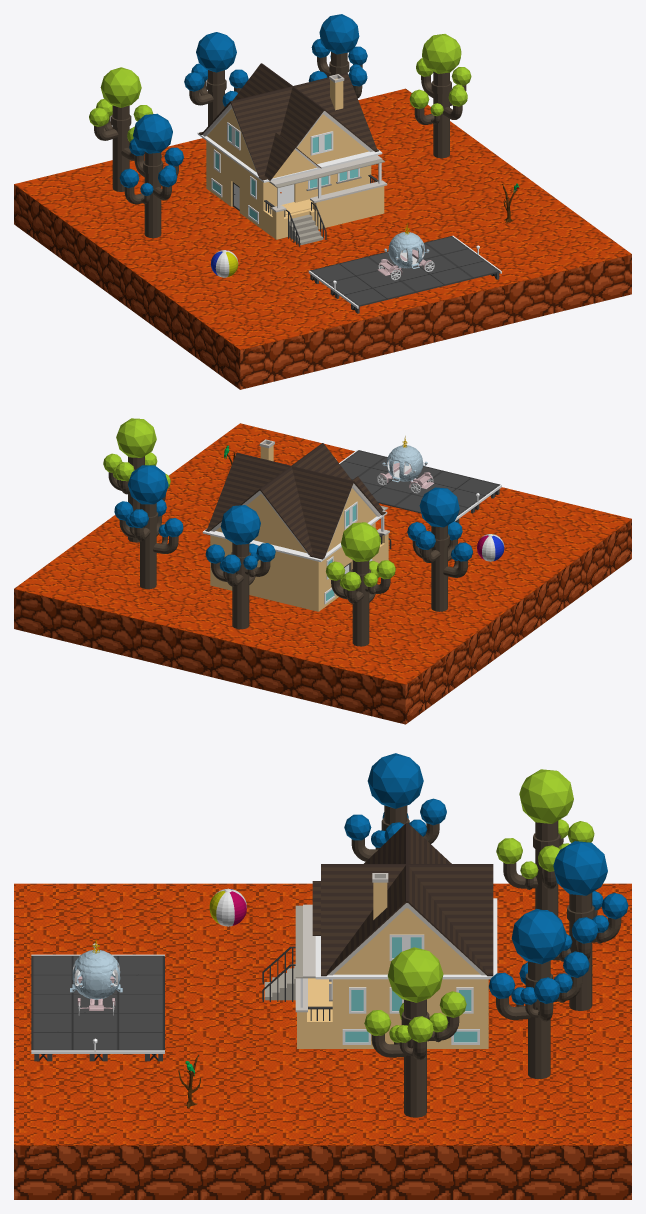
3 renders of one model, top to bottom at view 1: azimuth 30°, elevation 25°; view 2: azimuth 150°, elevation 25°; view 3: azimuth 270°, elevation 25°, orthographic. The views are drawn at different scales.
Parts seen in each view (by area): view 1: Cube.001, Cube.235, VEHICLES_FANTASY_CARRIAGE, OBJRANDOM_BEACHBALL; view 2: Cube.001, Cube.235, VEHICLES_FANTASY_CARRIAGE, OBJRANDOM_BEACHBALL; view 3: Cube.001, Cube.235, VEHICLES_FANTASY_CARRIAGE, OBJRANDOM_BEACHBALL.
Boxes of the visible parts, x1=… form: Cube.001: x1=14, y1=14, x2=631, y2=389; Cube.235: x1=197, y1=63, x2=387, y2=246; VEHICLES_FANTASY_CARRIAGE: x1=377, y1=223, x2=434, y2=280; OBJRANDOM_BEACHBALL: x1=211, y1=250, x2=238, y2=277; Cube.001: x1=14, y1=418, x2=631, y2=724; Cube.235: x1=202, y1=439, x2=391, y2=611; VEHICLES_FANTASY_CARRIAGE: x1=377, y1=436, x2=433, y2=493; OBJRANDOM_BEACHBALL: x1=477, y1=534, x2=504, y2=561; Cube.001: x1=14, y1=753, x2=631, y2=1199; Cube.235: x1=262, y1=823, x2=497, y2=1048; VEHICLES_FANTASY_CARRIAGE: x1=70, y1=939, x2=122, y2=1015; OBJRANDOM_BEACHBALL: x1=209, y1=888, x2=246, y2=926.
Bounding box in the file's own units: 4000 × 1663 × 4000.
34 materials, 4 textured.
